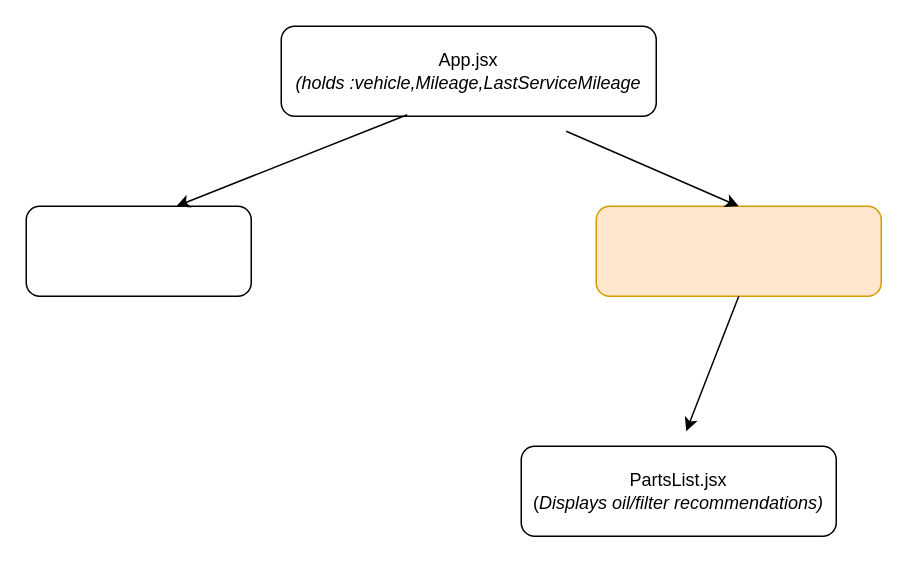
Some shapes in this 908 by 563 pixel diagram are drawn without their labels. The centre of each missing label's shape, as x and y in pixels:
"ServiceDashboard.jsx ( Performs maintenance math )" belongs at point (738, 250).
"VehicleForm.jsx (updates state via inputs)" belongs at point (138, 250).
